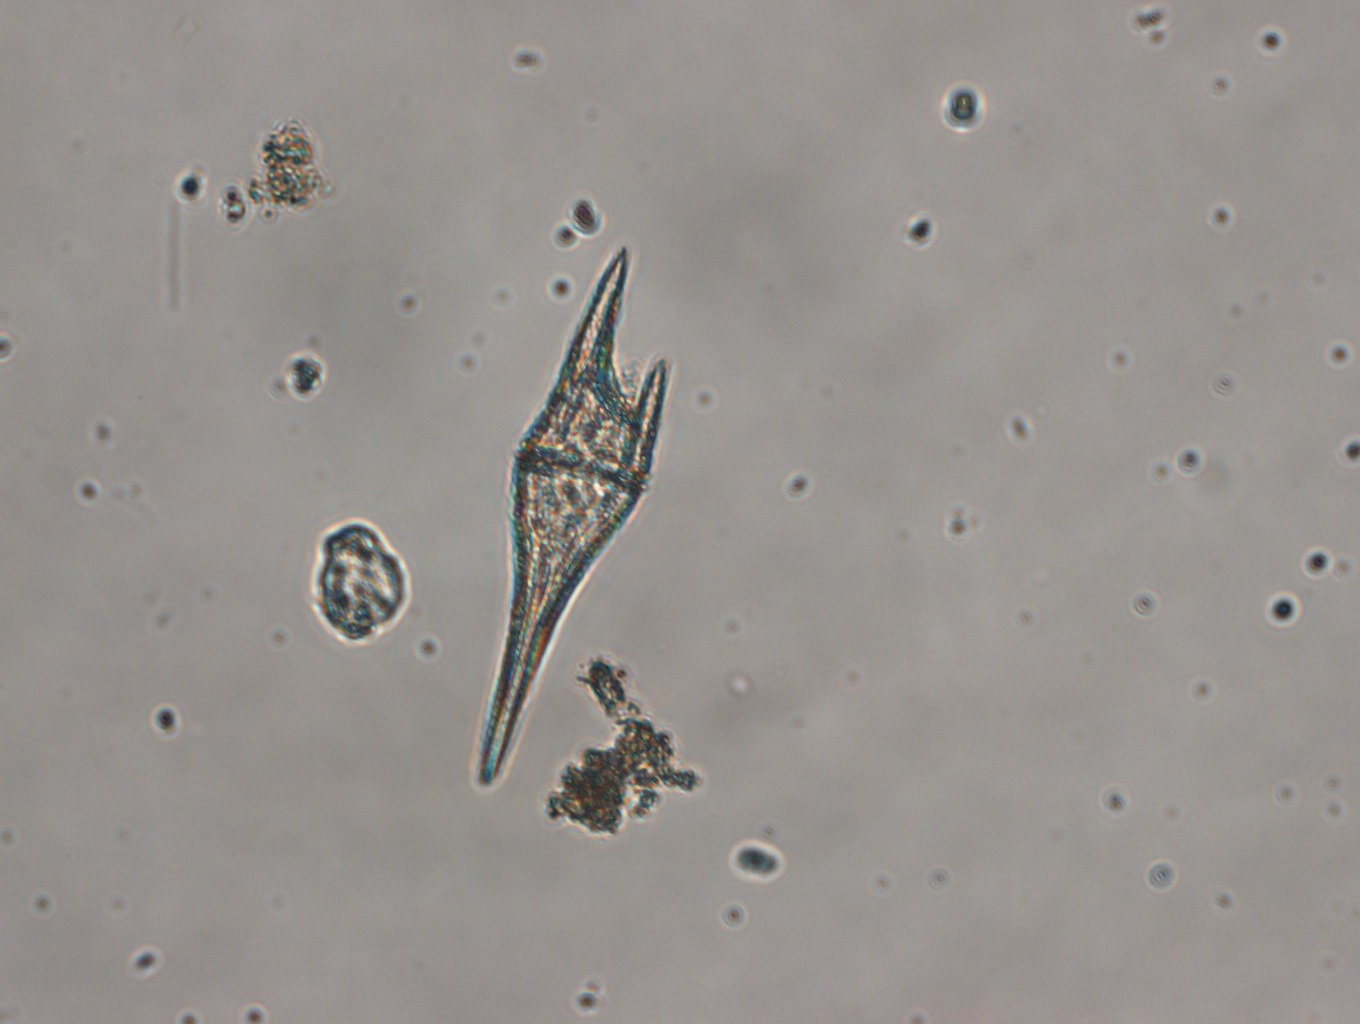ceratium furca: (473, 247, 668, 786)
